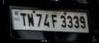3: (65, 14, 73, 28), (72, 14, 79, 28), (59, 14, 66, 27)
4: (42, 12, 50, 27)
7: (34, 12, 42, 27)
9: (78, 14, 85, 28)
F: (49, 13, 57, 27)
N: (26, 12, 34, 27)
T: (19, 11, 26, 26)
